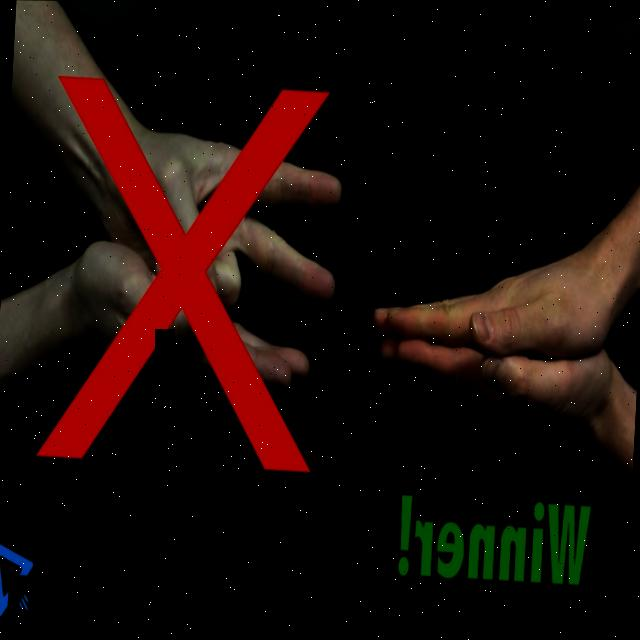Paper: (372, 241, 614, 357)
Scissors: (92, 124, 344, 312)
